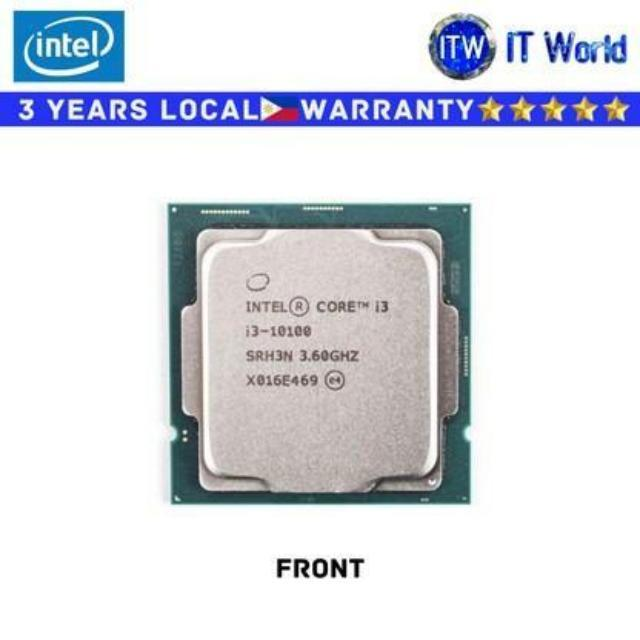CPU: (164, 195, 467, 502)
